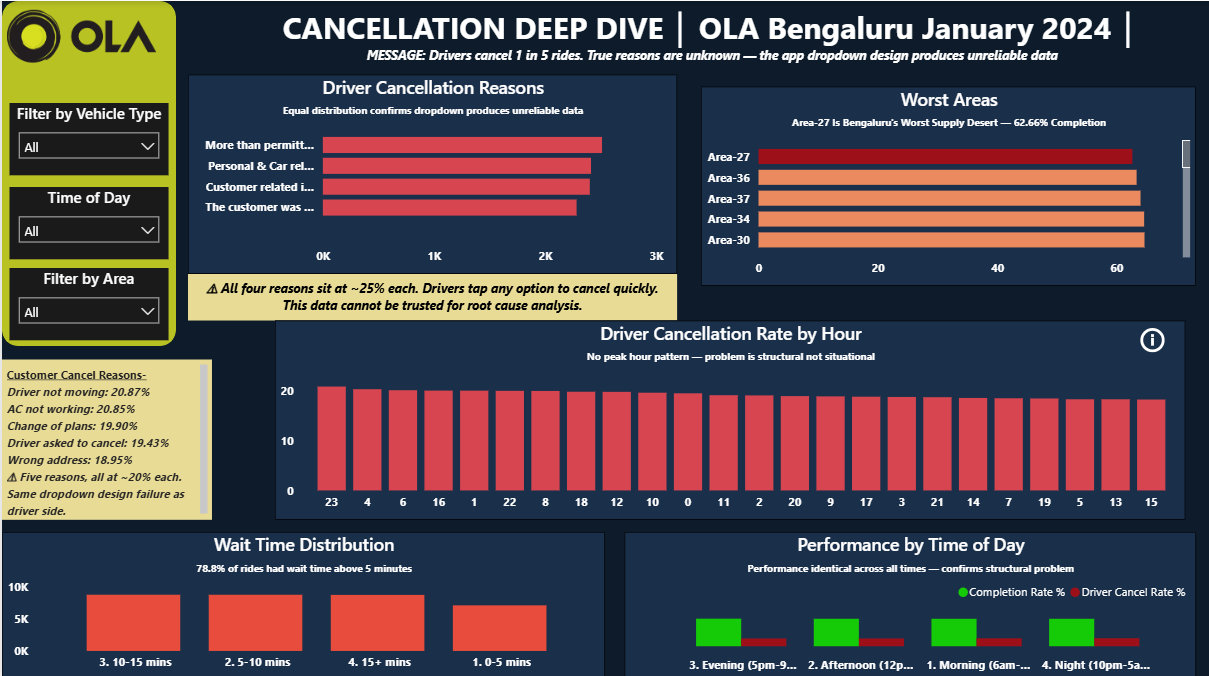

The dashboard page shown, as its layout file describes it:
{"tool":"powerbi","page":{"name":"Cancellation Deep Dive","canvas":[1280,720],"ordinal":1},"visuals":[{"type":"shape","box":[0,0,184.5,365.8],"z":0},{"type":"textbox","box":[223.5,0,1057.4,90.7],"z":1000},{"type":"image","box":[0,0,168.4,74.5],"z":2000},{"type":"slicer","title":"Filter by Vehicle Type","fields":{"Values":["ola_powerbi_ready.Vehicle Type"]},"box":[8,108.2,168.6,76.3],"z":3000},{"type":"slicer","title":"Time of Day","fields":{"Values":["ola_powerbi_ready.Time_Segment"]},"box":[8,197.2,168.6,76.3],"z":4000},{"type":"clusteredBarChart","title":"Driver Cancellation Reasons","fields":{"Category":["ola_powerbi_ready.Reason for Cancelling by Driver"],"Y":["Measure Table.Driver Cancellations"]},"box":[197.2,77.9,518.5,211.6],"z":5000},{"type":"slicer","title":"Filter by Area","fields":{"Values":["ola_powerbi_ready.Pickup Location"]},"box":[8,283.1,168.6,76.3],"z":6000},{"type":"textbox","box":[197.2,289.5,518.5,49.3],"z":7000},{"type":"clusteredBarChart","title":"Worst Areas","fields":{"Category":["ola_powerbi_ready.Pickup Location"],"Y":["Measure Table.Completion Rate %"]},"box":[741.2,90.7,524.9,211.6],"z":8000},{"type":"clusteredColumnChart","title":"Driver Cancellation Rate by Hour","fields":{"Category":["ola_powerbi_ready.Hour"],"Y":["Measure Table.Driver Cancel Rate %"]},"box":[289.5,338.8,965.5,211.6],"z":9000},{"type":"clusteredColumnChart","title":"Wait Time Distribution","fields":{"Category":["ola_powerbi_ready.VTAT_Bucket"],"Y":["Measure Table.Total Bookings"]},"box":[0,563.1,639.4,157.5],"z":10000},{"type":"clusteredColumnChart","title":"Performance by Time of Day","fields":{"Category":["ola_powerbi_ready.Time_Segment"],"Y":["Measure Table.Completion Rate %","Measure Table.Driver Cancel Rate %"]},"box":[660.1,563.1,606,157.5],"z":11000},{"type":"actionButton","box":[1202.5,338.8,35,41.4],"z":12000},{"type":"textbox","box":[0,380.2,222.7,170.2],"z":13000}]}

Visuals, with their boxes in screenshot pixels (x1, y1, x2, y2), scaled from the page's 1280x720 canvas onto the 1209x676 screenshot:
shape: [0,0,174,343]
textbox: [211,0,1208,85]
image: [0,0,159,70]
"Filter by Vehicle Type" slicer: [8,102,167,173]
"Time of Day" slicer: [8,185,167,257]
"Driver Cancellation Reasons" clusteredBarChart: [186,73,676,272]
"Filter by Area" slicer: [8,266,167,337]
textbox: [186,272,676,318]
"Worst Areas" clusteredBarChart: [700,85,1196,284]
"Driver Cancellation Rate by Hour" clusteredColumnChart: [273,318,1185,517]
"Wait Time Distribution" clusteredColumnChart: [0,529,604,675]
"Performance by Time of Day" clusteredColumnChart: [623,529,1196,675]
actionButton: [1136,318,1169,357]
textbox: [0,357,210,517]
